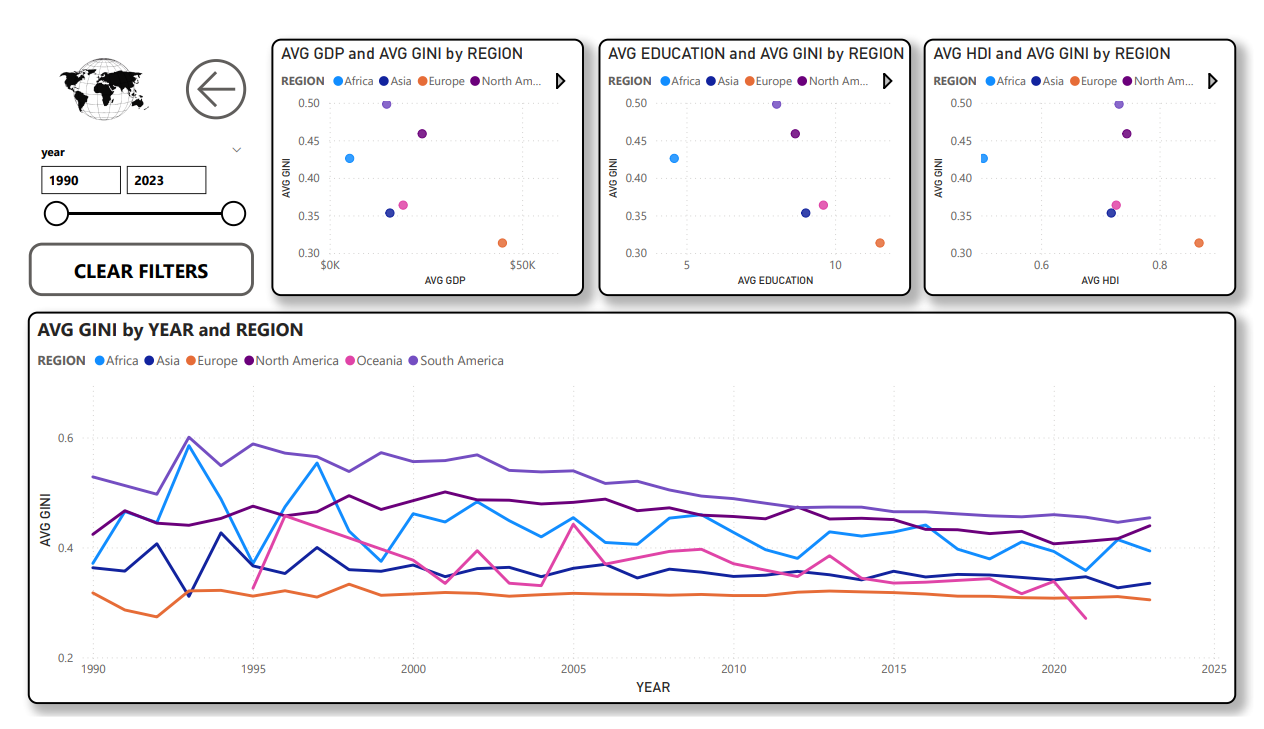

The page's visual inventory and layout, read from the dashboard file:
{"tool":"powerbi","page":{"name":"COMPARISONS","canvas":[1280,720],"ordinal":1},"visuals":[{"type":"lineChart","fields":{"Category":["global-inequality-cleaned.year"],"Y":["Avg(global-inequality-cleaned.gini)"],"Series":["global-inequality-cleaned.region"]},"box":[16.7,303.3,1245,403.3],"z":0},{"type":"slicer","fields":{"Values":["global-inequality-cleaned.year"]},"box":[18.3,125,231.7,93.3],"z":1000},{"type":"actionButton","box":[18.3,231.7,231.7,55],"z":2000},{"type":"actionButton","box":[171.7,21.7,78.3,103.3],"z":3000},{"type":"scatterChart","fields":{"X":["Avg(global-inequality-cleaned.gdp_per_capita)"],"Y":["Avg(global-inequality-cleaned.gini)"],"Series":["global-inequality-cleaned.region"]},"box":[268.3,21.7,321.7,265],"z":4000},{"type":"scatterChart","fields":{"Y":["Avg(global-inequality-cleaned.gini)"],"Series":["global-inequality-cleaned.region"],"X":["Avg(global-inequality-cleaned.education)"]},"box":[605,21.7,321.7,265],"z":5000},{"type":"scatterChart","fields":{"Y":["Avg(global-inequality-cleaned.gini)"],"Series":["global-inequality-cleaned.region"],"X":["Avg(global-inequality-cleaned.idh)"]},"box":[940,21.7,321.7,265],"z":6000},{"type":"image","box":[18.3,21.7,153.3,103.3],"z":7000}]}

Visuals, with their boxes in screenshot pixels (x1, y1, x2, y2), scaled from the page's 1280x720 canvas onto the 1264x729 screenshot:
lineChart - global-inequality-cleaned.year x Avg(global-inequality-cleaned.gini): (x1=16, y1=307, x2=1246, y2=715)
slicer - global-inequality-cleaned.year: (x1=18, y1=127, x2=247, y2=221)
actionButton: (x1=18, y1=235, x2=247, y2=290)
actionButton: (x1=170, y1=22, x2=247, y2=127)
scatterChart - Avg(global-inequality-cleaned.gdp_per_capita) x Avg(global-inequality-cleaned.gini): (x1=265, y1=22, x2=583, y2=290)
scatterChart - Avg(global-inequality-cleaned.gini) x global-inequality-cleaned.region: (x1=597, y1=22, x2=915, y2=290)
scatterChart - Avg(global-inequality-cleaned.gini) x global-inequality-cleaned.region: (x1=928, y1=22, x2=1246, y2=290)
image: (x1=18, y1=22, x2=169, y2=127)
